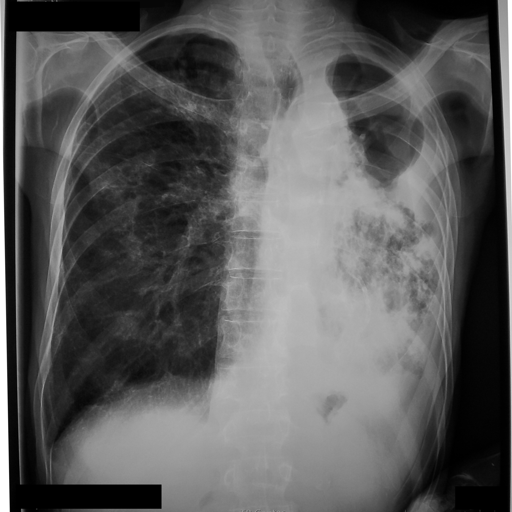TB: (78, 96, 227, 302), (349, 163, 446, 320)
